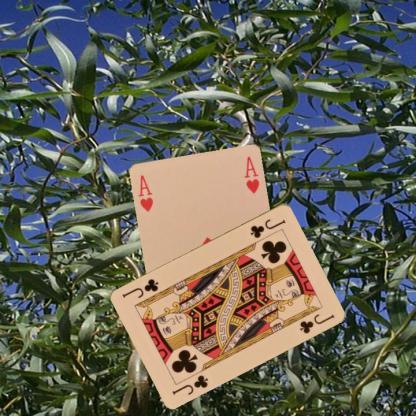Ah: (136, 172, 155, 213)
Jc: (169, 372, 210, 396), (248, 216, 287, 239)
